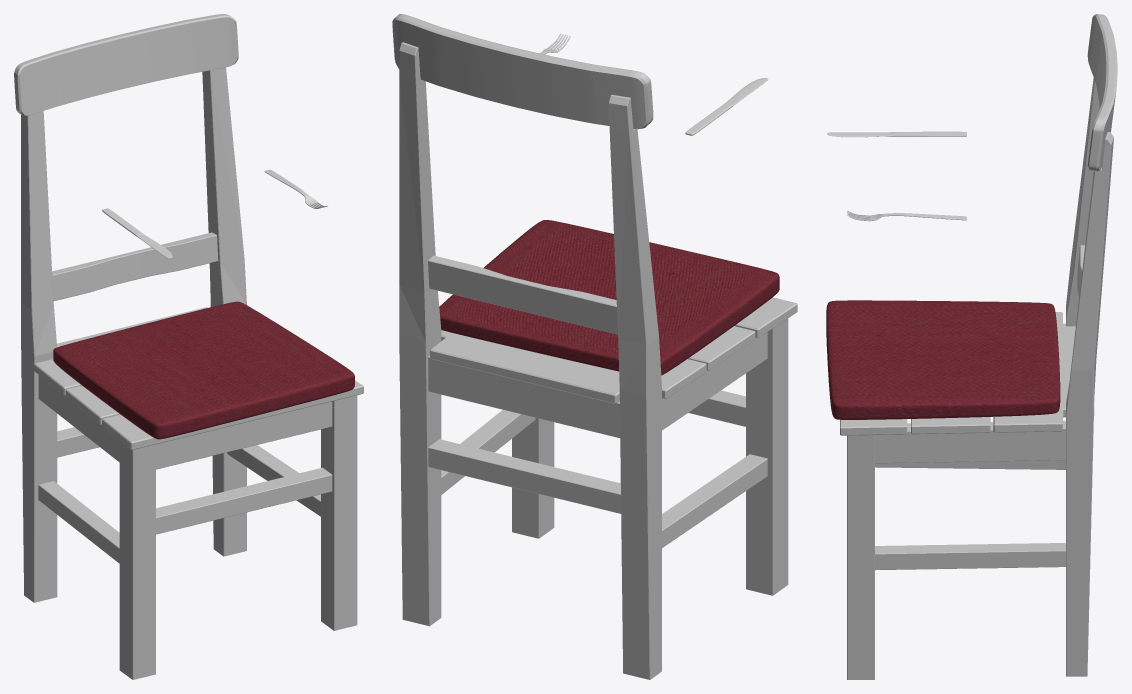
The model's file is chair_ladder.glb.
3 renders of one model, left to right at view 1: azimuth 30°, elevation 25°; view 2: azimuth 150°, elevation 25°; view 3: azimuth 270°, elevation 25°, orthographic. The views are drawn at different scales.
Visible parts, largest first — view 1: Cushion1_0003, TableCross_0027, TableCross_0016, TableCross_0029, TableCross_0030, TableCross_0017, TableCross_0023, TableCross_0018, TableCross_0026, TableCross_0024, TableCross_0021, TableCross_0025 (+2 smaller); view 2: TableCross_0027, Cushion1_0003, TableCross_0016, TableCross_0029, TableCross_0026, TableCross_0019, TableCross_0017, TableCross_0022, TableCross_0024, TableCross_0030, TableCross_0021, TableCross_0025 (+2 smaller); view 3: Cushion1_0003, TableCross_0027, TableCross_0030, TableCross_0020, TableCross_0026, TableCross_0025, TableCross_0016, TableCross_0024, Cutlery_0012, Cutlery_0011.
Part boxes in pixels (x1,y1,x2,y2): Cushion1_0003: (53, 301, 354, 439); TableCross_0027: (21, 67, 246, 602); TableCross_0016: (14, 14, 238, 115); TableCross_0029: (119, 441, 155, 679); TableCross_0030: (321, 395, 357, 630); TableCross_0017: (52, 232, 218, 300); TableCross_0023: (156, 467, 332, 534); TableCross_0018: (156, 401, 332, 469); TableCross_0026: (34, 307, 363, 450); TableCross_0024: (38, 481, 119, 563); TableCross_0021: (38, 375, 119, 462); TableCross_0025: (227, 445, 320, 516); TableCross_0027: (399, 42, 661, 679); Cushion1_0003: (439, 220, 779, 375); TableCross_0016: (392, 14, 653, 129); TableCross_0029: (746, 318, 788, 595); TableCross_0026: (430, 297, 797, 403); TableCross_0019: (428, 356, 620, 438); TableCross_0017: (428, 255, 617, 334); TableCross_0022: (428, 439, 621, 513); TableCross_0024: (662, 454, 767, 547); TableCross_0030: (512, 418, 554, 538); TableCross_0021: (662, 332, 767, 430); TableCross_0025: (441, 410, 535, 494); Cushion1_0003: (826, 300, 1060, 419); TableCross_0027: (1066, 78, 1113, 676); TableCross_0030: (847, 435, 874, 679); TableCross_0020: (875, 420, 1065, 463); TableCross_0026: (840, 312, 1094, 435); TableCross_0025: (875, 543, 1065, 570); TableCross_0016: (1087, 14, 1117, 171); TableCross_0024: (875, 460, 1065, 469); Cutlery_0012: (827, 131, 966, 137); Cutlery_0011: (847, 211, 966, 221).
Size of the model in its own units: 0.5128 by 1.1 by 0.526.
Materials: 2 (2 with a texture image).
